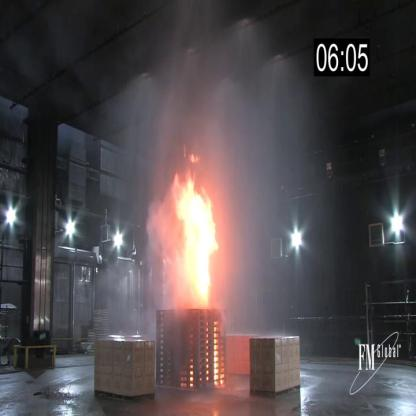fire: (170, 169, 221, 304), (214, 328, 217, 384)
